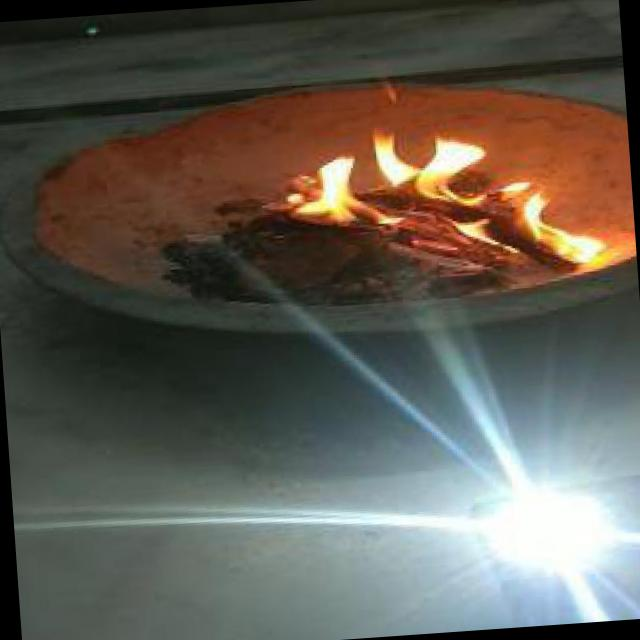fire: (280, 113, 626, 280)
